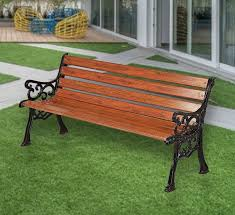Bench: (31, 61, 196, 174)
